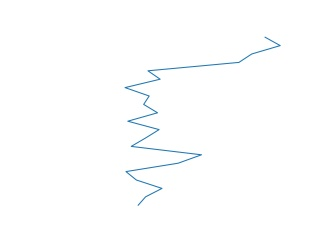crevasseRiverChannelBar: (120, 34, 283, 208)
